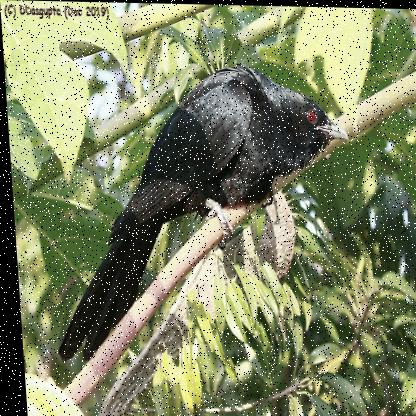Burung: (37, 57, 358, 366)
